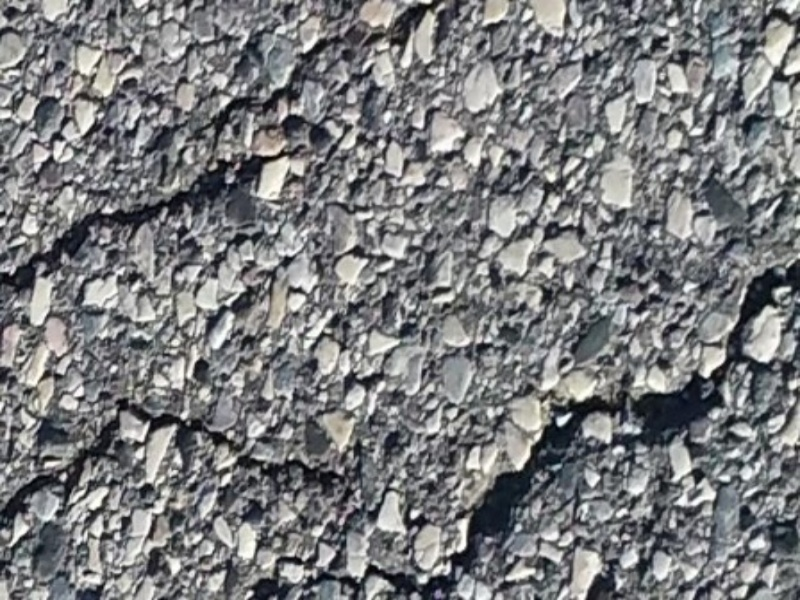crack: (418, 242, 796, 600), (1, 142, 292, 294), (1, 387, 380, 475), (212, 1, 435, 106)
